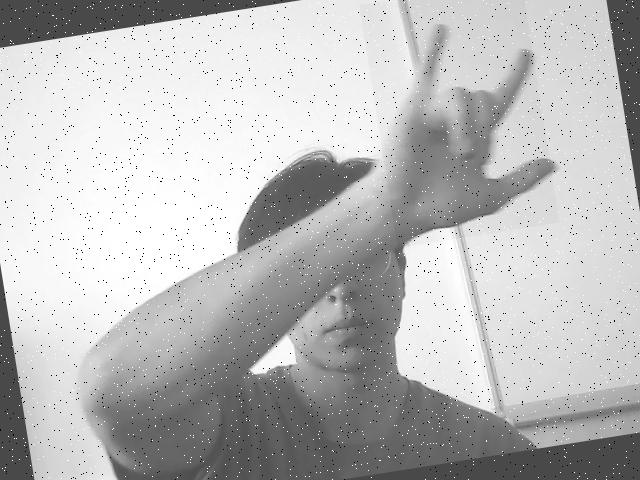I_Love_You: (359, 0, 559, 247)
